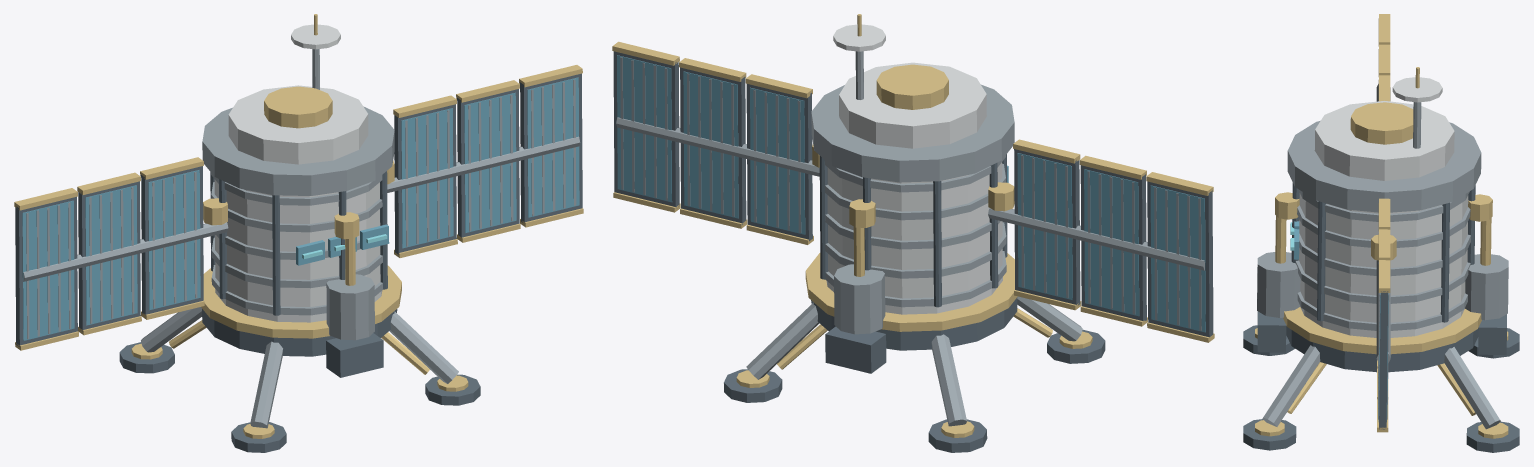
Rendered from reactor.glb.
3 views of the same model, side by side, from view 1: azimuth 30°, elevation 25°; view 2: azimuth 150°, elevation 25°; view 3: azimuth 270°, elevation 25° (orthographic). The views are drawn at different scales.
Parts seen in each view (by area): view 1: reactor_pressure_vessel, top_shoulder, top_dome, radiator_face_-1_0, radiator_face_1_1, radiator_face_1_2, radiator_face_1_0, radiator_face_-1_1, radiator_face_-1_2, lower_gold_ring, side_pump_-1, reactor_cap (+33 smaller); view 2: reactor_pressure_vessel, top_shoulder, top_dome, radiator_face_-1_2, radiator_face_-1_1, radiator_face_1_0, radiator_face_1_1, radiator_face_-1_0, radiator_face_1_2, lower_gold_ring, side_pump_1, reactor_cap (+33 smaller); view 3: reactor_pressure_vessel, top_shoulder, top_dome, lower_gold_ring, base_lower, side_pump_-1, side_pump_1, reactor_cap, landing_leg_0, landing_leg_3, structural_band_1, structural_band_2 (+32 smaller).
Boxes of the visible parts, x1=… form: reactor_pressure_vessel: x1=214, y1=179, x2=382, y2=322; top_shoulder: x1=202, y1=106, x2=394, y2=195; top_dome: x1=228, y1=85, x2=368, y2=164; radiator_face_-1_0: x1=148, y1=170, x2=200, y2=310; radiator_face_1_1: x1=464, y1=92, x2=516, y2=232; radiator_face_1_2: x1=527, y1=77, x2=579, y2=217; radiator_face_1_0: x1=401, y1=108, x2=453, y2=248; radiator_face_-1_1: x1=85, y1=185, x2=137, y2=325; radiator_face_-1_2: x1=22, y1=200, x2=74, y2=340; lower_gold_ring: x1=201, y1=265, x2=401, y2=338; side_pump_-1: x1=326, y1=274, x2=374, y2=340; reactor_cap: x1=264, y1=86, x2=332, y2=128; reactor_pressure_vessel: x1=826, y1=162, x2=1002, y2=314; top_shoulder: x1=811, y1=84, x2=1014, y2=182; top_dome: x1=839, y1=62, x2=986, y2=148; radiator_face_-1_2: x1=1150, y1=185, x2=1205, y2=332; radiator_face_-1_1: x1=1084, y1=169, x2=1139, y2=316; radiator_face_1_0: x1=750, y1=87, x2=805, y2=234; radiator_face_1_1: x1=683, y1=71, x2=738, y2=218; radiator_face_-1_0: x1=1017, y1=153, x2=1072, y2=299; radiator_face_1_2: x1=617, y1=55, x2=672, y2=202; lower_gold_ring: x1=805, y1=253, x2=1017, y2=331; side_pump_1: x1=834, y1=264, x2=885, y2=334; reactor_cap: x1=876, y1=64, x2=948, y2=109; reactor_pressure_vessel: x1=1299, y1=193, x2=1468, y2=337; top_shoulder: x1=1287, y1=120, x2=1481, y2=212; top_dome: x1=1314, y1=101, x2=1454, y2=180; lower_gold_ring: x1=1283, y1=307, x2=1481, y2=354; base_lower: x1=1286, y1=326, x2=1478, y2=372; side_pump_-1: x1=1257, y1=252, x2=1300, y2=317; side_pump_1: x1=1465, y1=254, x2=1508, y2=320; reactor_cap: x1=1350, y1=102, x2=1413, y2=144; landing_leg_0: x1=1444, y1=347, x2=1500, y2=429; landing_leg_3: x1=1262, y1=345, x2=1320, y2=426; structural_band_1: x1=1295, y1=260, x2=1470, y2=303; structural_band_2: x1=1299, y1=233, x2=1470, y2=276.
Size of the model in its own units: 9.12 by 5.32 by 3.88.
